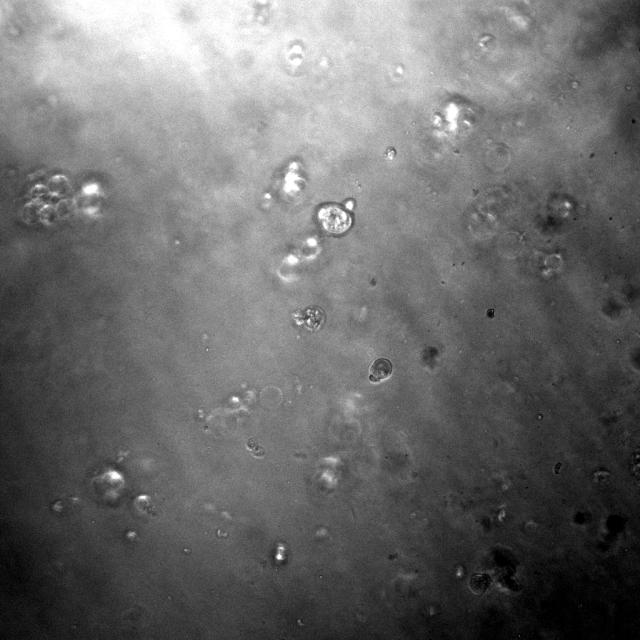organoid: (18, 167, 106, 229), (469, 545, 521, 594), (314, 198, 356, 236), (292, 305, 326, 331), (369, 358, 392, 383), (246, 438, 264, 457), (385, 147, 396, 160), (487, 309, 494, 318)
